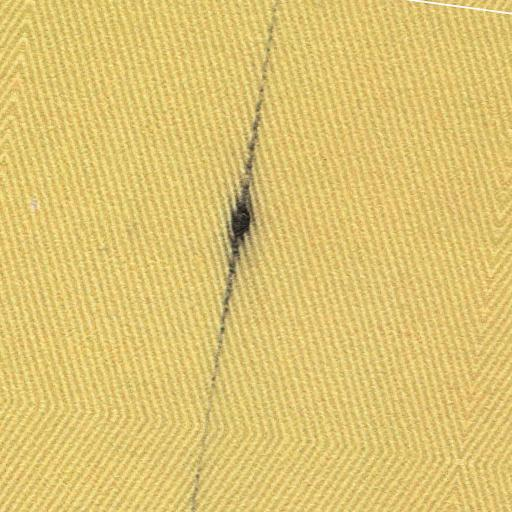stain: (182, 0, 298, 510)
